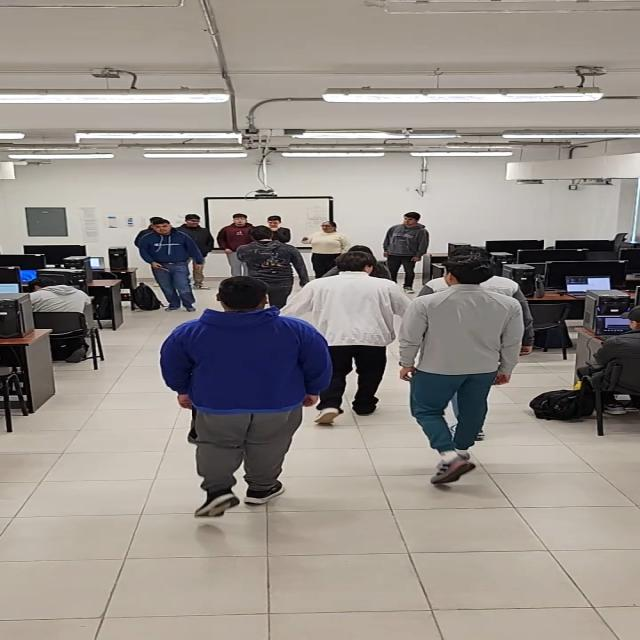Persona: (166, 272, 344, 486), (408, 253, 495, 460), (295, 250, 401, 398), (139, 220, 207, 308), (241, 226, 306, 285), (389, 212, 422, 277), (304, 219, 339, 265), (186, 213, 219, 252), (224, 212, 248, 252), (263, 216, 288, 242)
